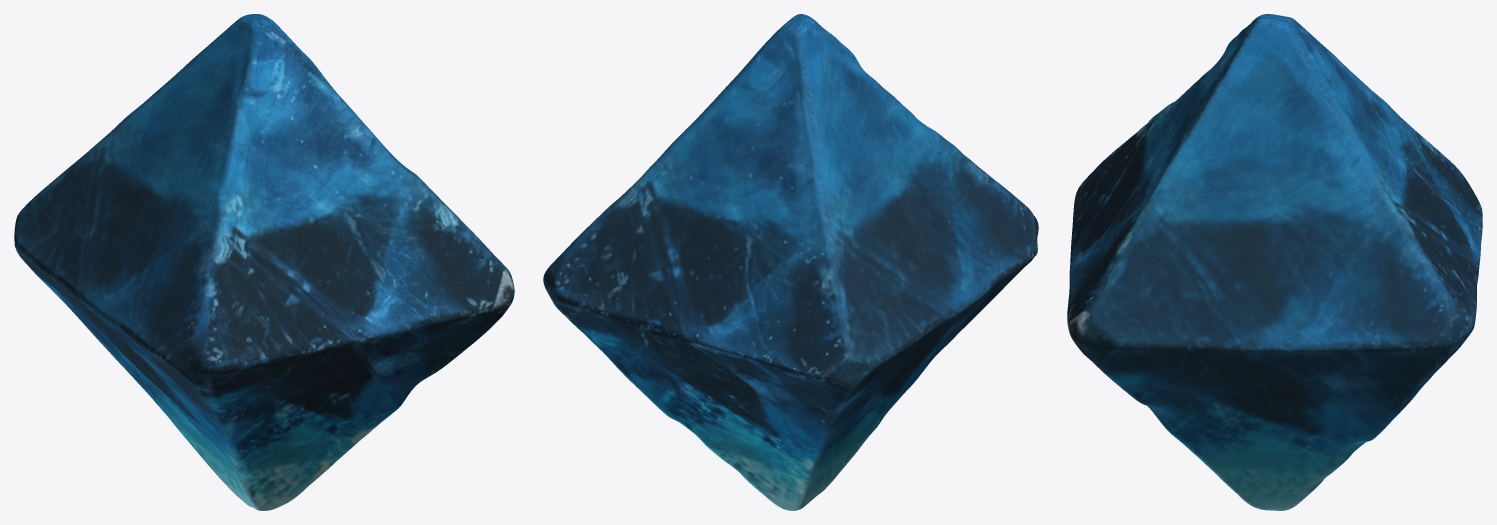
File: Meshy_AI_BlueOctahedronCrystal_20261123_image-to-3d-texture.fbx
3 views of the same model, side by side, from view 1: azimuth 30°, elevation 25°; view 2: azimuth 150°, elevation 25°; view 3: azimuth 270°, elevation 25° (orthographic).
Parts seen in each view (by area): view 1: Mesh_0; view 2: Mesh_0; view 3: Mesh_0.
Boxes of the visible parts, x1,y1,x2,y2 form: Mesh_0: (14,14,514,510); Mesh_0: (543,14,1038,510); Mesh_0: (1067,14,1482,510).
Size of the model in its own units: 140 by 190 by 146.
1 material, 1 textured.
